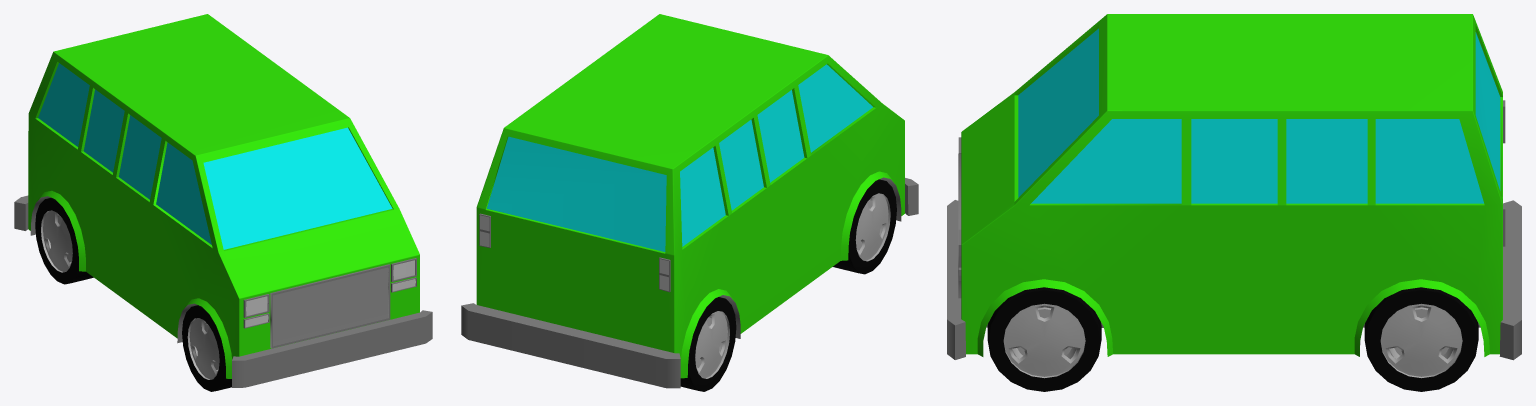
Rendered from ART-MOD-A-VAN-GREEN-001.fbx.
3 views of the same model, side by side, from view 1: azimuth 30°, elevation 25°; view 2: azimuth 150°, elevation 25°; view 3: azimuth 270°, elevation 25° (orthographic). The views are drawn at different scales.
Parts seen in each view (by area): view 1: Van_Green_GEO; view 2: Van_Green_GEO; view 3: Van_Green_GEO.
Boxes of the visible parts, <box> form: Van_Green_GEO: <box>14,14,432,391</box>; Van_Green_GEO: <box>461,14,918,391</box>; Van_Green_GEO: <box>947,14,1521,391</box>.
Size of the model in its own units: 262 by 264 by 507.
